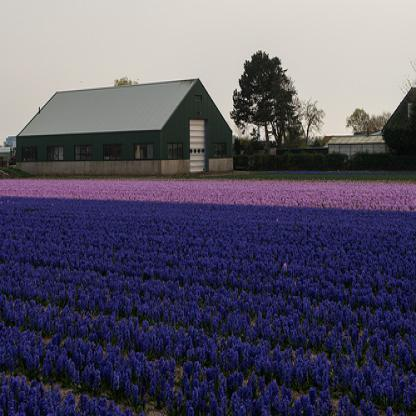TULIP: (10, 172, 411, 412)
